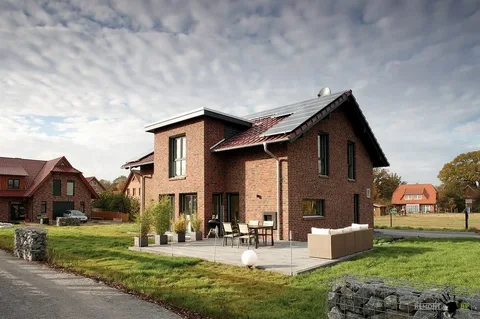private_hause: (150, 116, 377, 228)
